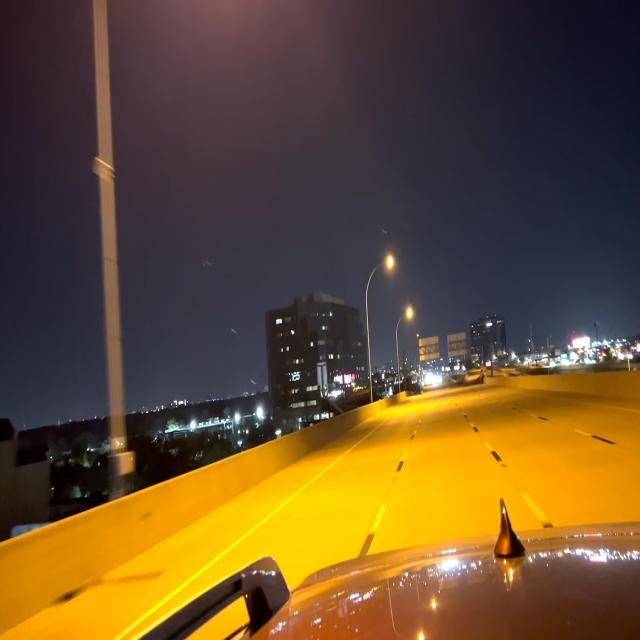back-of-sign: (317, 358, 328, 390)
